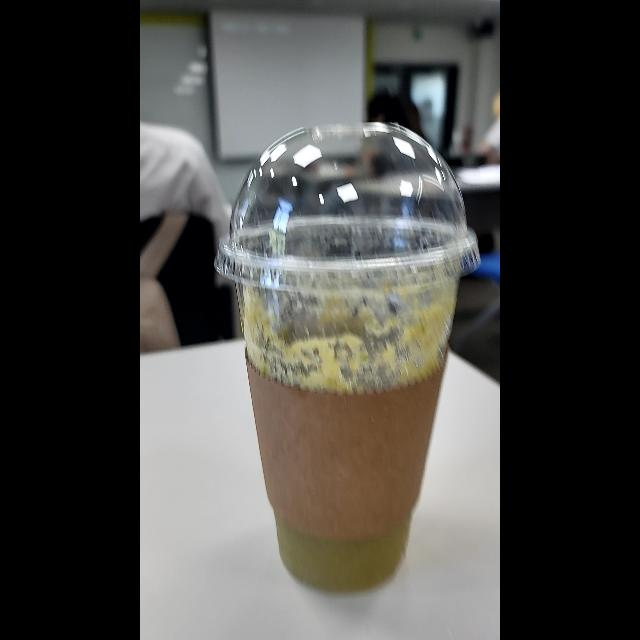plastic_cup: (210, 118, 478, 596)
plastic_cup_lid: (213, 118, 477, 300)
